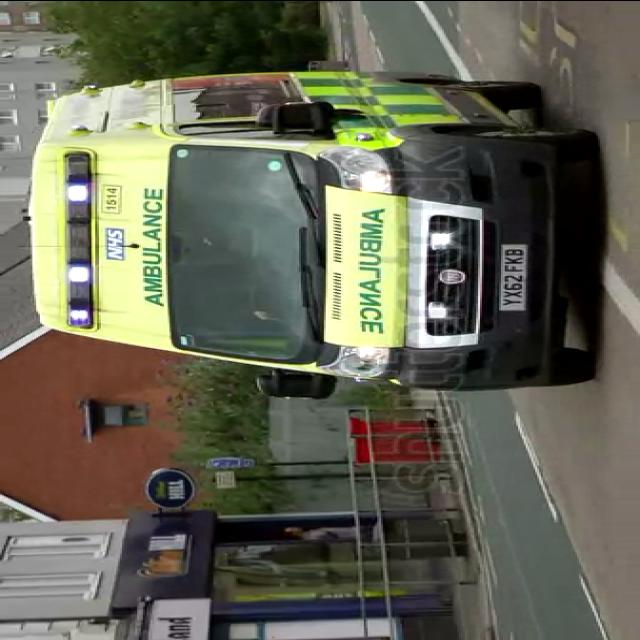ambulance: (23, 69, 600, 402)
